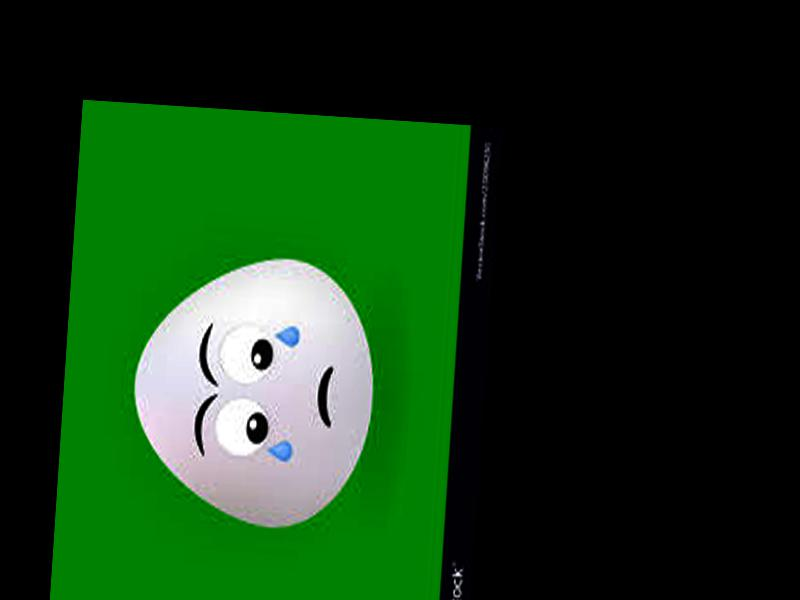Eggs: (127, 251, 381, 536)
